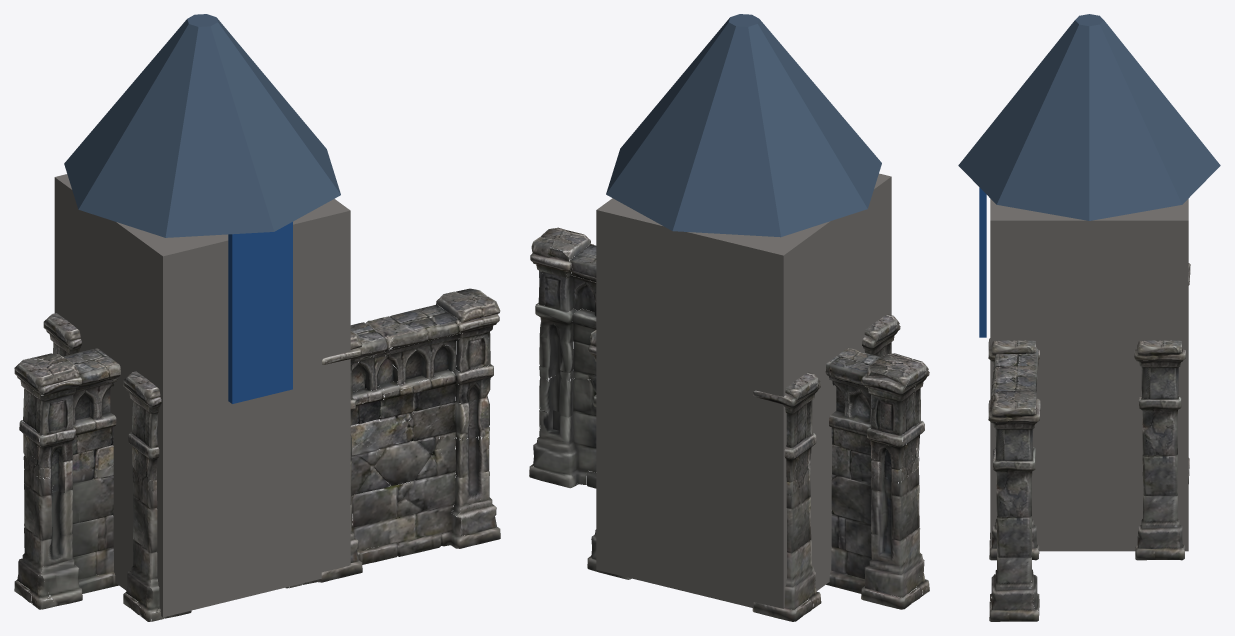
File: Valoria_Tower_SkinV1.glb
3 views of the same model, side by side, from view 1: azimuth 30°, elevation 25°; view 2: azimuth 150°, elevation 25°; view 3: azimuth 270°, elevation 25° (orthographic). The views are drawn at different scales.
Visible parts, largest first — view 1: Tower support, Authored slate crown, Tower front skin · Eldoria_MultiPiece_Group_05.003, Tower front skin · Eldoria_MultiPiece_Group_05.002, Heraldic banner, Tower front skin · Eldoria_MultiPiece_Group_05, Tower front skin · Eldoria_MultiPiece_Group_05.001; view 2: Tower support, Authored slate crown, Tower front skin · Eldoria_MultiPiece_Group_05.002, Tower front skin · Eldoria_MultiPiece_Group_05.003, Tower front skin · Eldoria_MultiPiece_Group_05.001, Tower front skin · Eldoria_MultiPiece_Group_05; view 3: Tower support, Authored slate crown, Tower front skin · Eldoria_MultiPiece_Group_05.003, Tower front skin · Eldoria_MultiPiece_Group_05.001, Tower front skin · Eldoria_MultiPiece_Group_05, Heraldic banner.
Part boxes in pixels (<box>): Tower support: <box>54,174,350,617</box>; Authored slate crown: <box>64,14,340,237</box>; Tower front skin · Eldoria_MultiPiece_Group_05.003: <box>285,288,500,588</box>; Tower front skin · Eldoria_MultiPiece_Group_05.002: <box>14,348,120,609</box>; Heraldic banner: <box>228,222,292,403</box>; Tower front skin · Eldoria_MultiPiece_Group_05: <box>123,331,362,621</box>; Tower front skin · Eldoria_MultiPiece_Group_05.001: <box>43,313,81,490</box>; Tower support: <box>596,173,891,608</box>; Authored slate crown: <box>606,14,881,237</box>; Tower front skin · Eldoria_MultiPiece_Group_05.002: <box>825,347,929,609</box>; Tower front skin · Eldoria_MultiPiece_Group_05.003: <box>529,227,596,488</box>; Tower front skin · Eldoria_MultiPiece_Group_05.001: <box>587,330,821,621</box>; Tower front skin · Eldoria_MultiPiece_Group_05: <box>862,314,900,481</box>; Tower support: <box>990,199,1188,551</box>; Authored slate crown: <box>958,14,1220,220</box>; Tower front skin · Eldoria_MultiPiece_Group_05.003: <box>988,348,1040,621</box>; Tower front skin · Eldoria_MultiPiece_Group_05.001: <box>1134,263,1190,560</box>; Tower front skin · Eldoria_MultiPiece_Group_05: <box>988,338,1039,560</box>; Heraldic banner: <box>979,187,986,337</box>.
Size of the model in its own units: 3.05 by 3.73 by 1.8.
4 materials, 1 textured.
